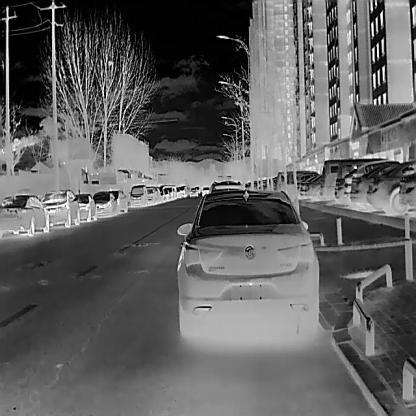car: (176, 190, 318, 336), (366, 160, 415, 213), (350, 162, 399, 209), (0, 194, 49, 235), (41, 188, 80, 226), (319, 159, 337, 199), (92, 193, 117, 218), (75, 193, 96, 221), (108, 189, 127, 213), (130, 185, 147, 206), (305, 175, 320, 198), (145, 186, 160, 204), (201, 186, 210, 196), (189, 187, 198, 197)
